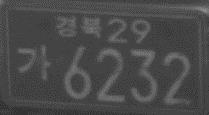2: (95, 47, 126, 102), (162, 50, 191, 104), (106, 18, 128, 43)
3: (129, 48, 158, 103)
6: (63, 46, 91, 100)
9: (131, 19, 150, 43)
가: (17, 44, 52, 79)
경북_O: (55, 15, 102, 39)
